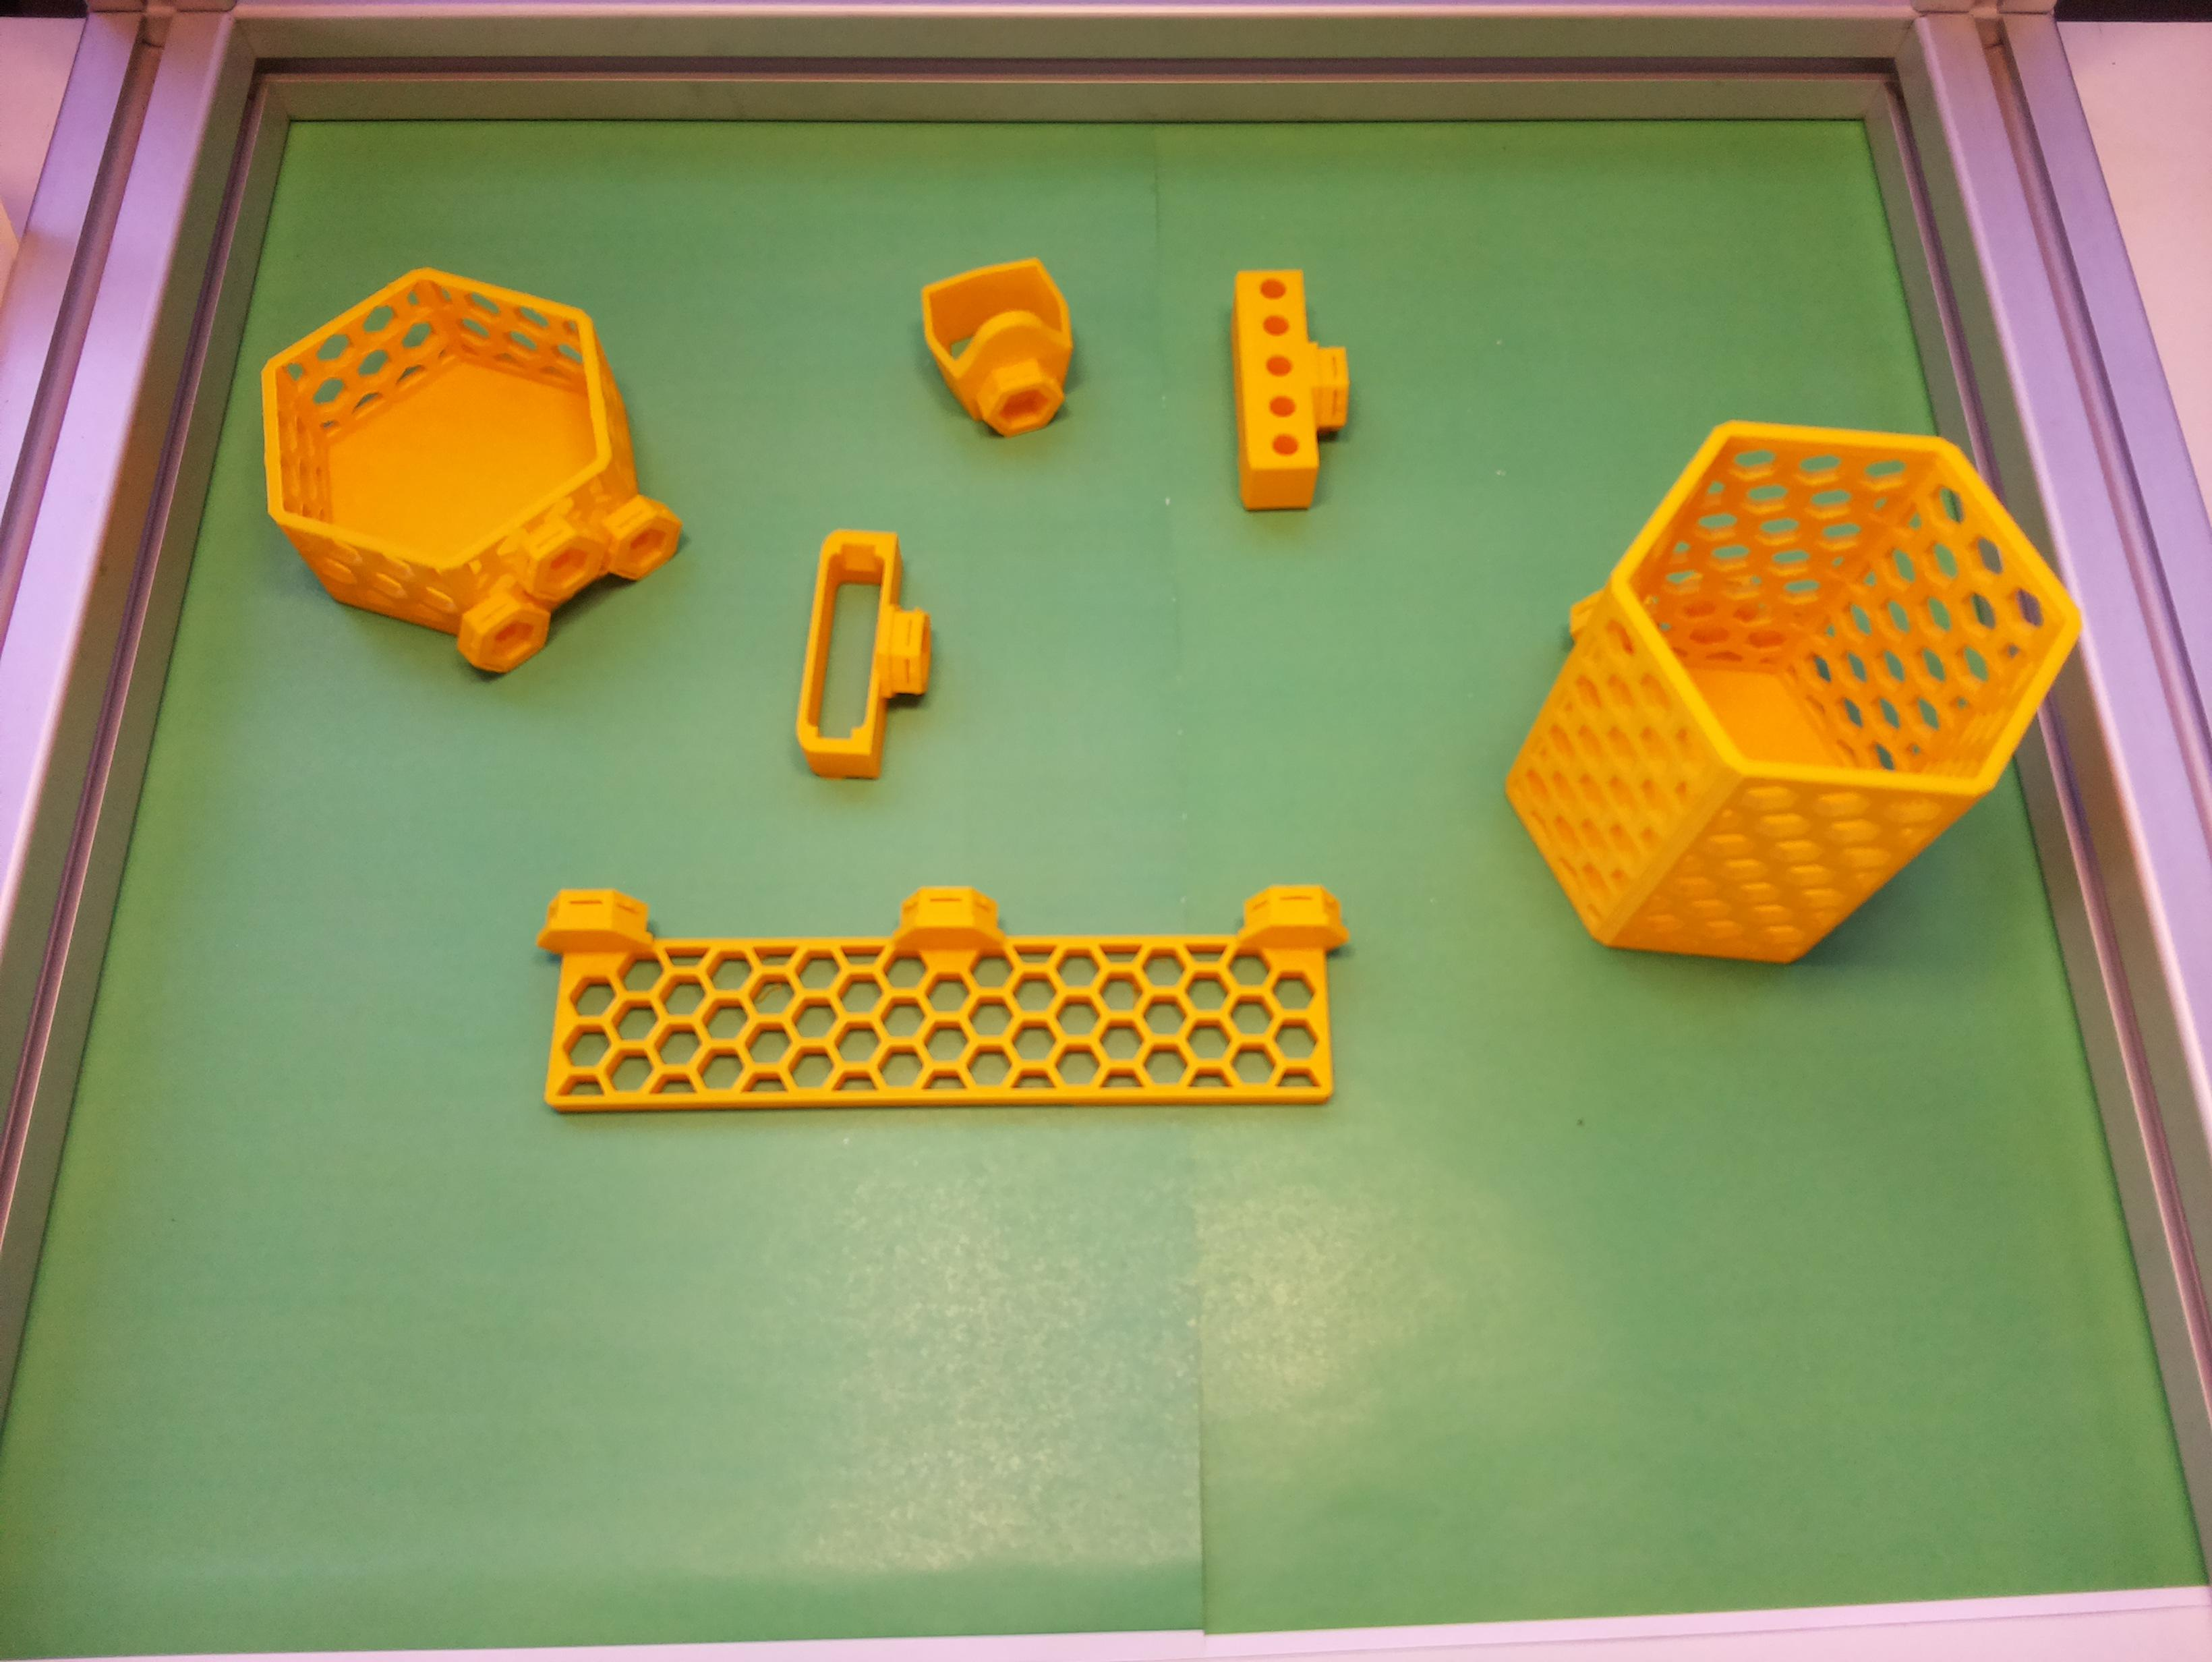bit_holder: (1227, 269, 1353, 512)
bottle_holder: (197, 196, 728, 731)
cup_holder: (1397, 318, 2140, 1051)
cutter_holder: (787, 524, 950, 791)
scissor_holder: (911, 246, 1098, 452)
tool_holder: (536, 882, 1350, 1112)
